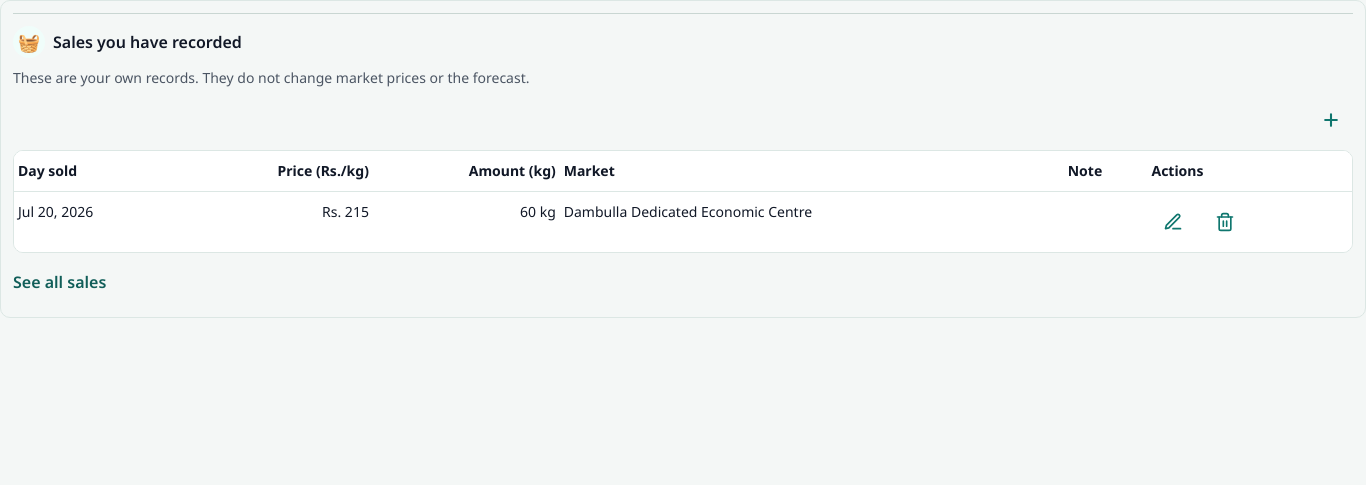
Test case: recording a sale — the "+" row › inserts an EMPTY row at the TOP of the table and puts the cursor in it
Click the button named "Record a sale of Tomato" at (1331, 120), box [1309,98,1353,142]
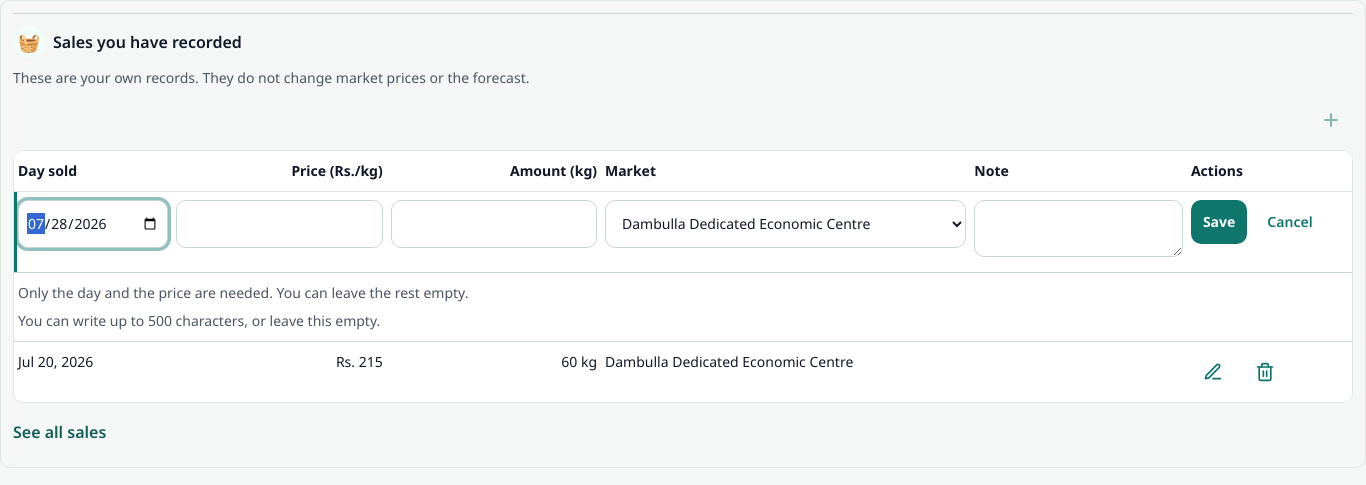
Check: the field named "Price (Rs./kg)" is empty, box [176,200,383,248]
Check: the field named "Amount (kg)" is empty, box [391,200,597,248]
Check: the date field named "Day sold" holds "2026-07-28", box [18,200,168,248]
